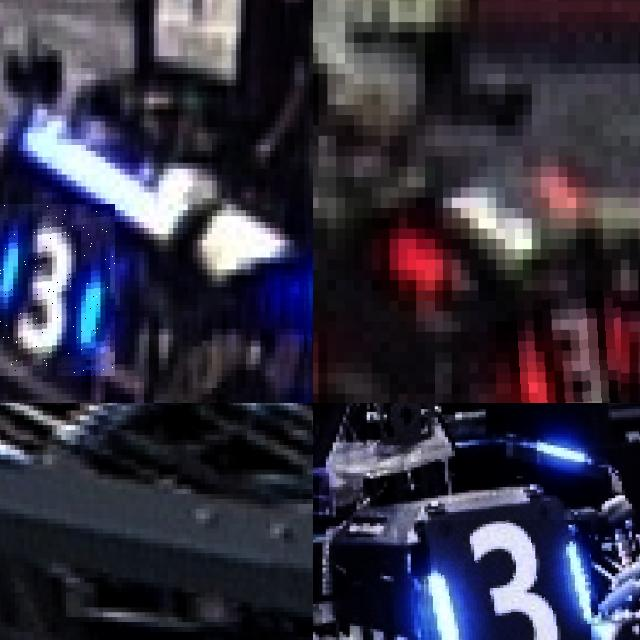B3: (421, 520, 591, 640), (0, 204, 115, 376)
R3: (496, 290, 620, 403)
